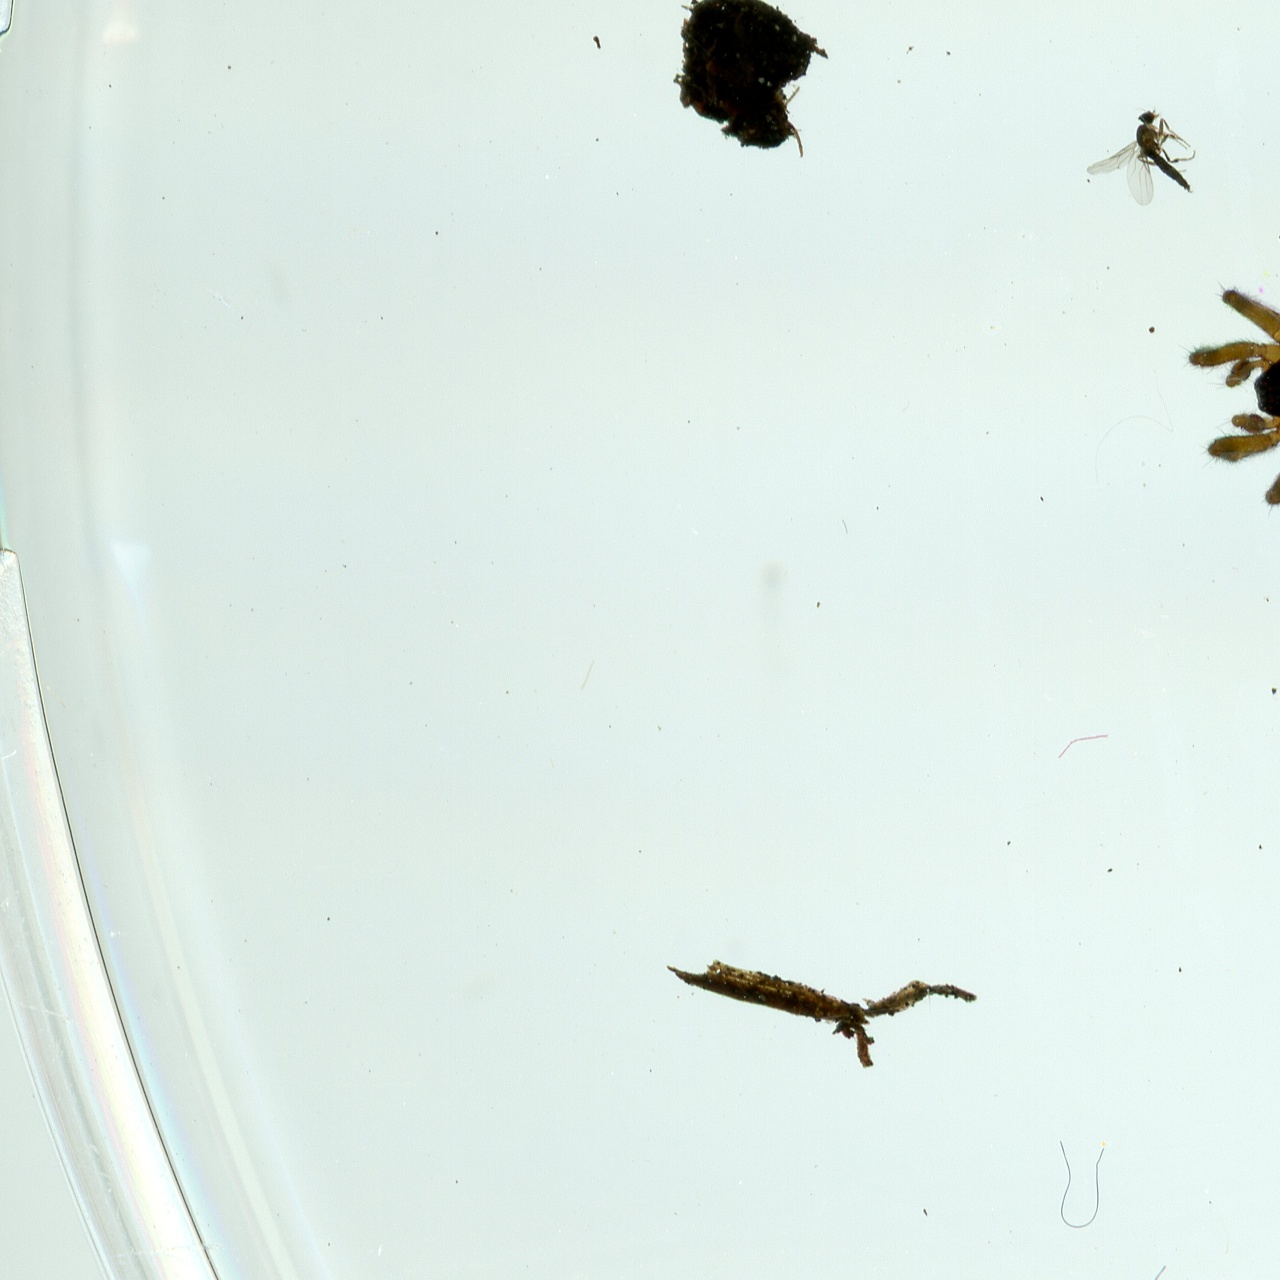arthropod: (1169, 250, 1280, 518), (1082, 100, 1207, 210)
